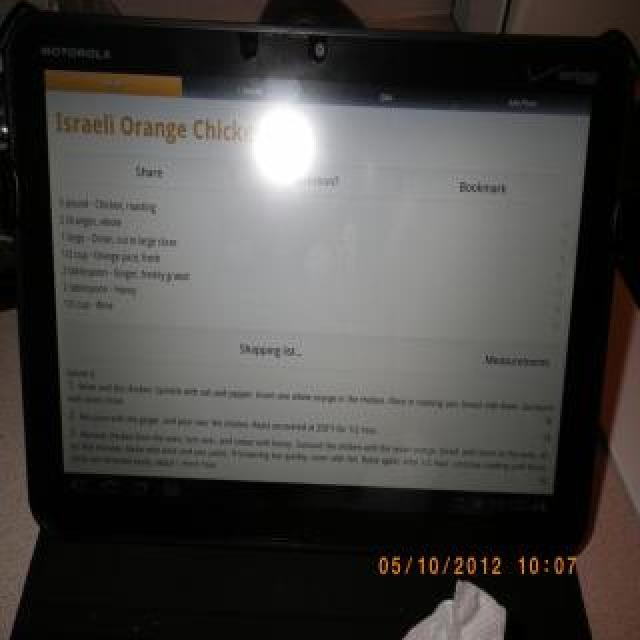laptop_computer: (22, 25, 596, 640)
